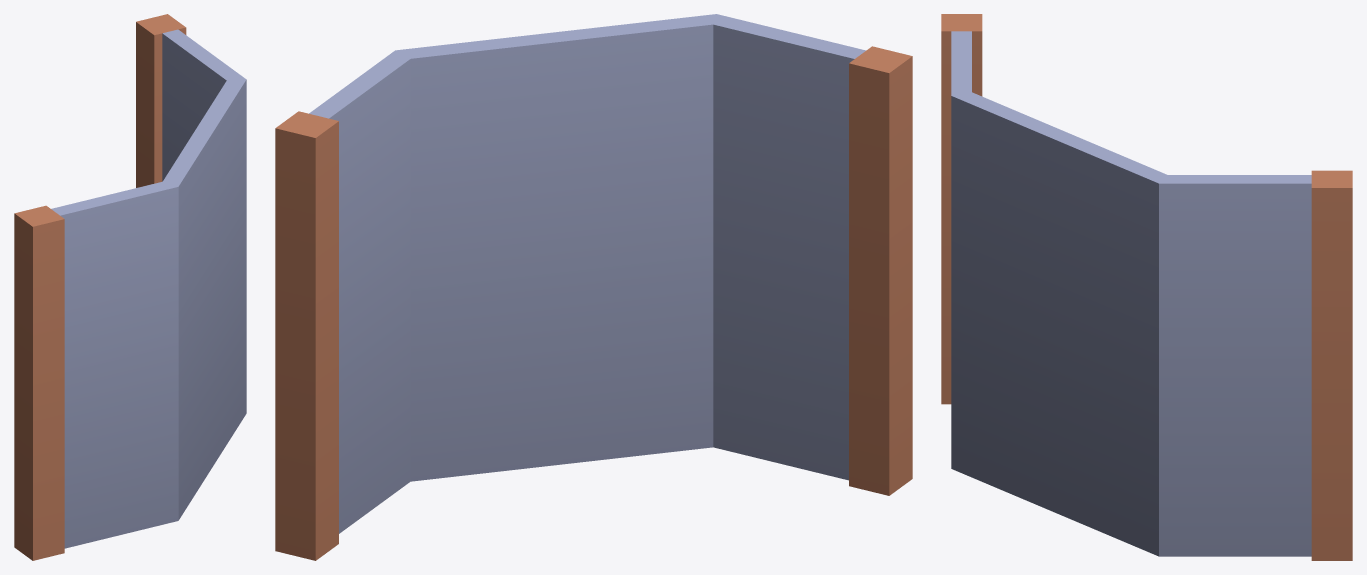
Rendered from wall-corner-diagonal.glb.
The picture shows the model from 3 angles, left to right: view 1: azimuth 30°, elevation 25°; view 2: azimuth 150°, elevation 25°; view 3: azimuth 270°, elevation 25°; orthographic projection. The views are drawn at different scales.
Parts seen in each view (by area): view 1: wall-corner-diagonal; view 2: wall-corner-diagonal; view 3: wall-corner-diagonal.
Boxes of the visible parts, x1,y1,x2,y2 form: wall-corner-diagonal: (14,14,246,560); wall-corner-diagonal: (275,14,912,560); wall-corner-diagonal: (941,14,1352,560).
Size of the model in its own units: 1 by 1 by 1.
Materials: 1 (1 with a texture image).
